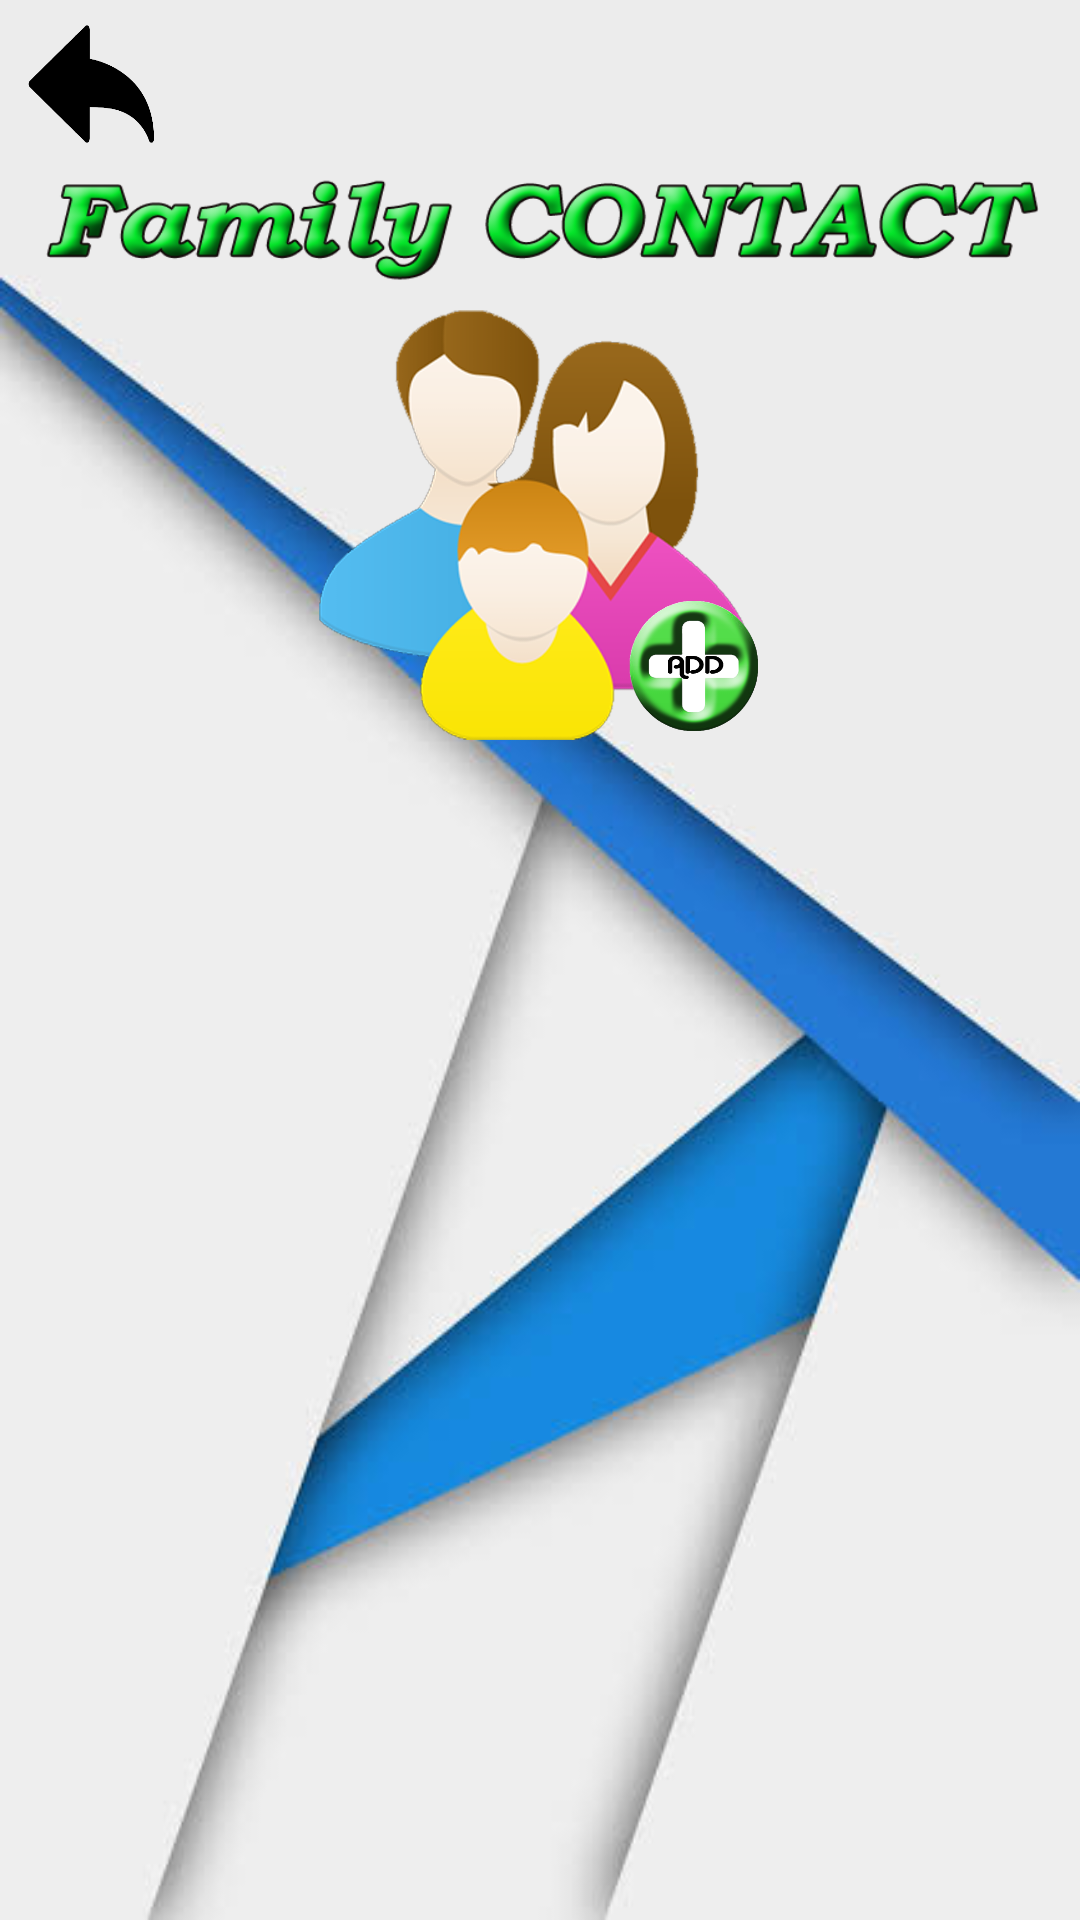

Screen size 1080px×1920px. Icon name, then its box in pixels as region(x1, y1, x2, y2):
back arrow: region(28, 25, 154, 143)
